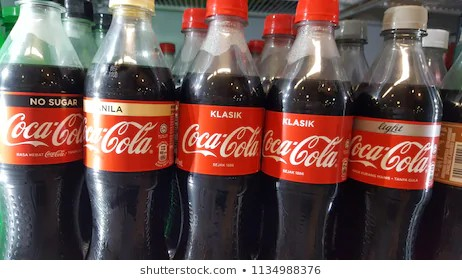coke-bottle-700ml: (177, 2, 270, 259), (270, 3, 351, 259)
coke-diet/zero-bottle-700ml: (81, 1, 177, 259), (1, 1, 80, 261), (356, 5, 435, 260)
